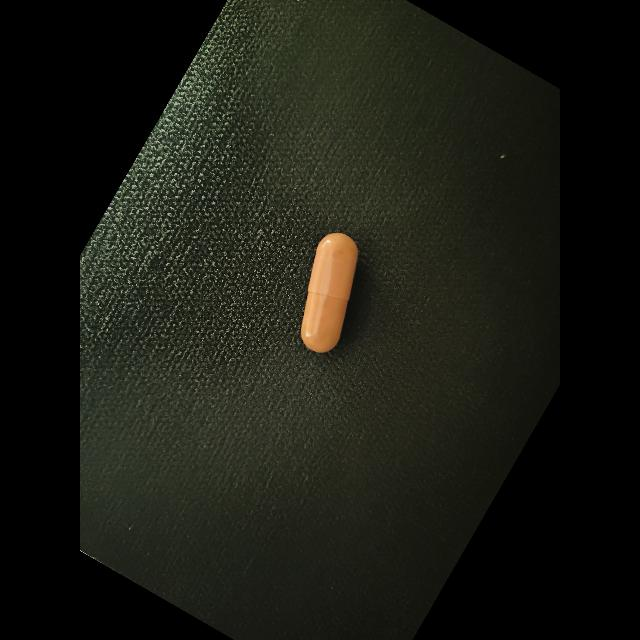Intact Capsule: (301, 233, 358, 353)
